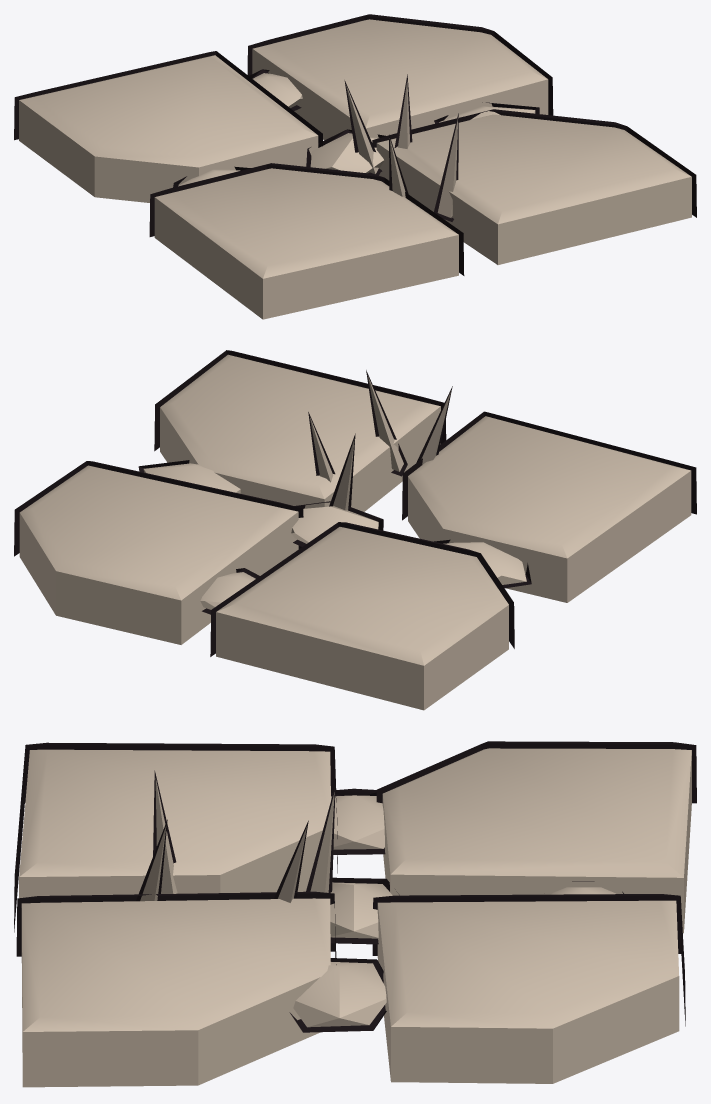
File: SM_RoadTile_08.fbx
The picture shows the model from 3 angles, top to bottom: view 1: azimuth 30°, elevation 25°; view 2: azimuth 150°, elevation 25°; view 3: azimuth 270°, elevation 25°; orthographic projection. The views are drawn at different scales.
Parts seen in each view (by area): view 1: SM_RoadTile_08; view 2: SM_RoadTile_08; view 3: SM_RoadTile_08.
Part boxes in pixels (x1=…): SM_RoadTile_08: x1=14, y1=14, x2=696, y2=319; SM_RoadTile_08: x1=14, y1=350, x2=696, y2=710; SM_RoadTile_08: x1=14, y1=741, x2=696, y2=1087.
Bounding box in the file's own units: 0.947 × 0.2296 × 0.9506.
